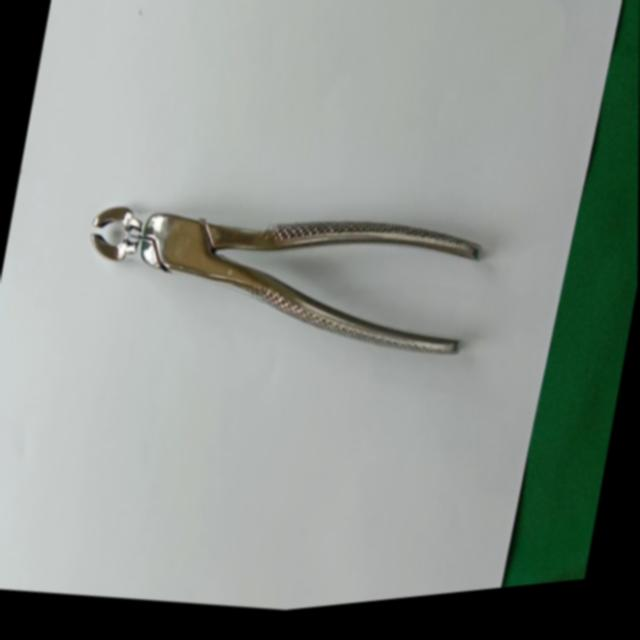BayonetForcep: (69, 144, 498, 416)
